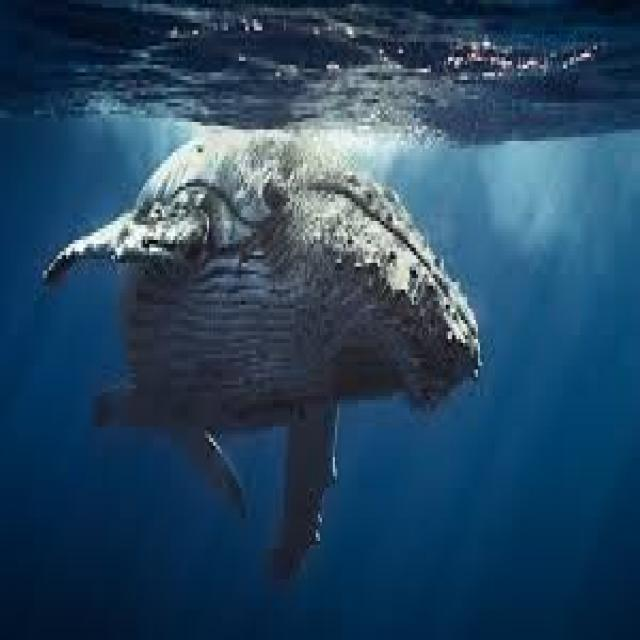blue_whale: (25, 134, 510, 576)
